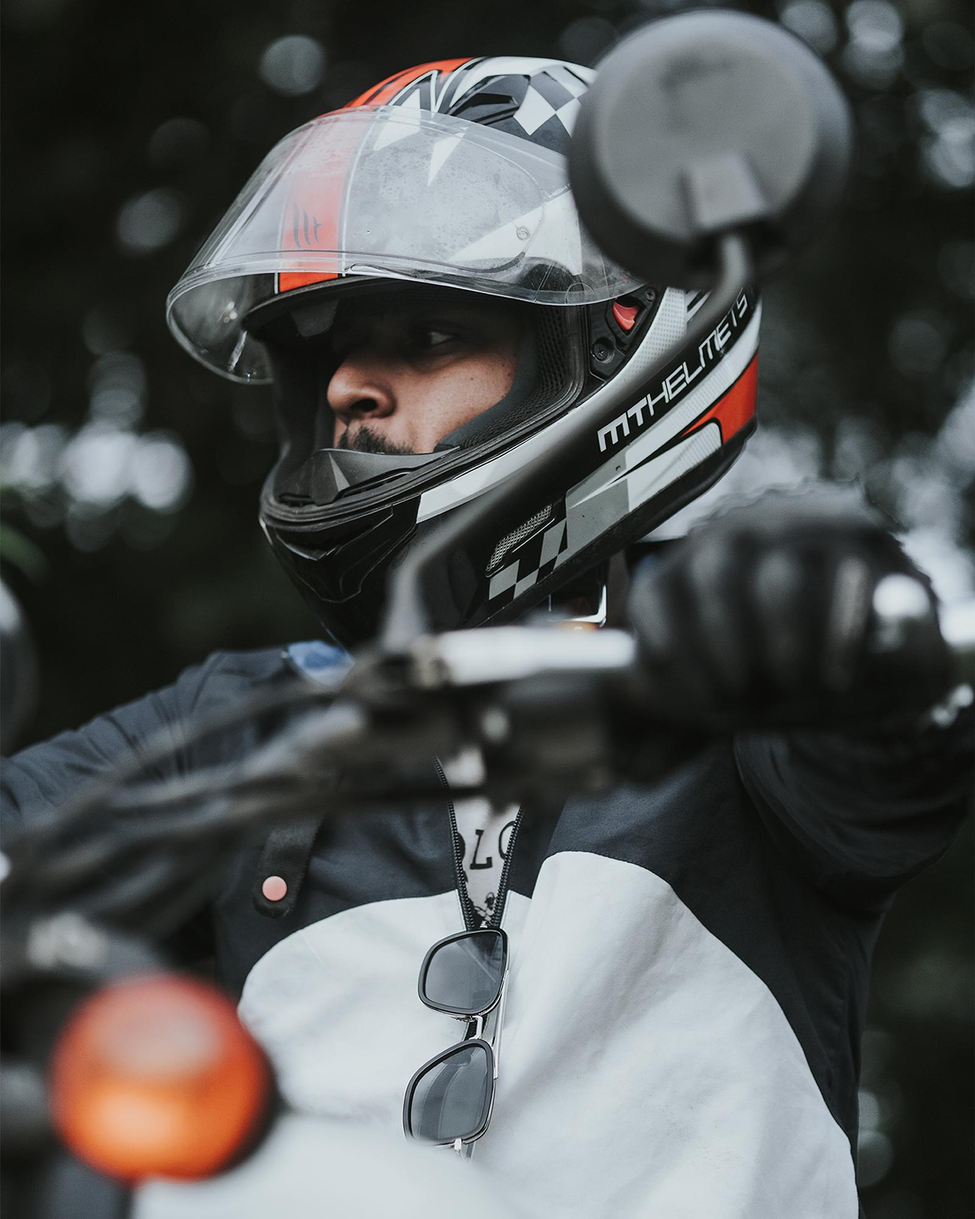helmet: (162, 52, 766, 685)
